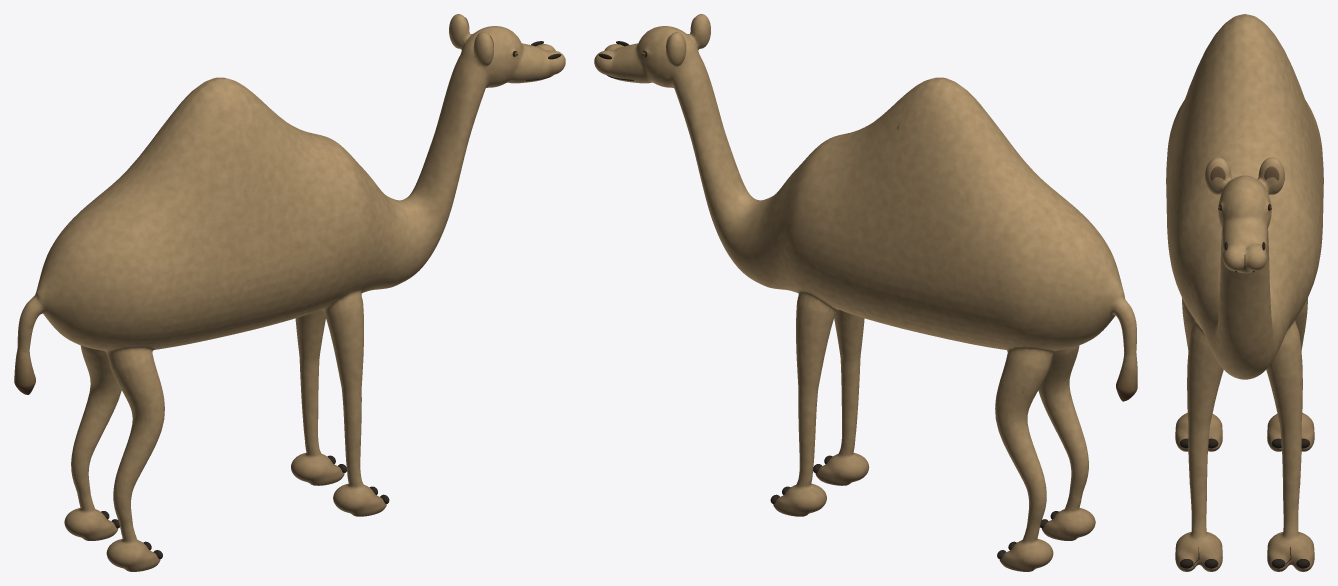
File: camel.glb
3 renders of one model, left to right at view 1: azimuth 30°, elevation 25°; view 2: azimuth 150°, elevation 25°; view 3: azimuth 270°, elevation 25°, orthographic. The views are drawn at different scales.
Visible parts, largest first — view 1: Continuous anatomical skin | dromedary_camel; view 2: Continuous anatomical skin | dromedary_camel; view 3: Continuous anatomical skin | dromedary_camel.
Boxes of the visible parts, x1,y1,x2,y2 form: Continuous anatomical skin | dromedary_camel: [14, 14, 565, 571]; Continuous anatomical skin | dromedary_camel: [594, 14, 1137, 571]; Continuous anatomical skin | dromedary_camel: [1166, 14, 1323, 571].
Bounding box in the file's own units: 3.03 × 2.38 × 0.7042.
7 materials, 7 textured.
